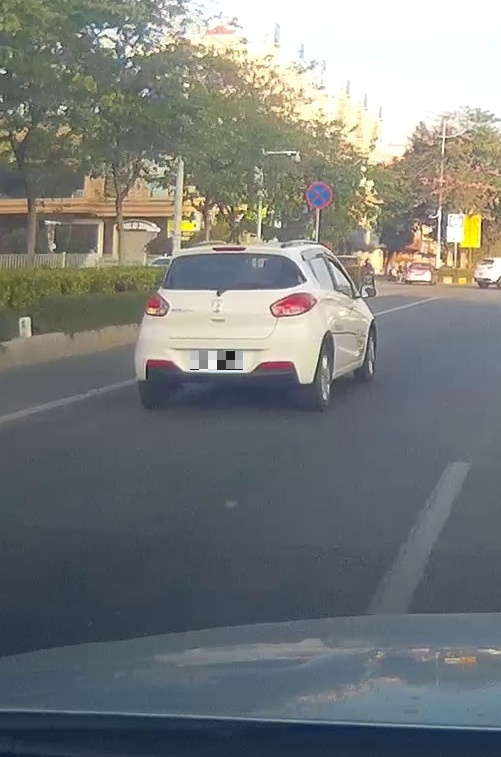L_light: (144, 291, 170, 317)
R_light: (269, 291, 318, 318)
T_light: (212, 247, 246, 252)
day-left: (134, 240, 319, 412)
plate_1: (190, 351, 243, 370)
